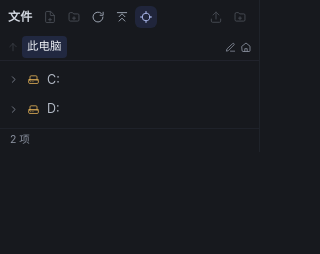
Test: FileTree Windows roots and navigation › expands drives independently and isolates a missing path to its own drive
Expected: the list item "D:" is shown, 6,101 -> 60,116
Click the list item "C:" at (33, 80), box 6,72 -> 60,87
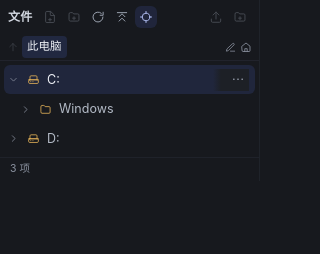
Result: the list item "Windows" is shown at 18,101 -> 114,116
Click the list item "D:" at (33, 138), box 6,131 -> 60,146
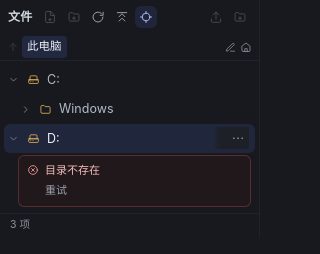
Result: the list item "Windows" is shown at 18,101 -> 114,116
Result: the text "目录不存在" is shown at 45,163 -> 100,177
Result: the button "重试" is shown
Click the button "重试" at (56, 191), box 45,182 -> 67,200
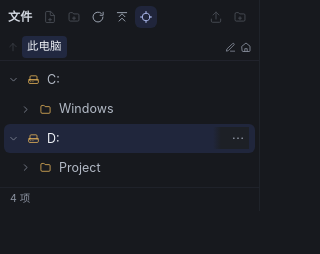
Result: the list item "Windows" is shown at 18,101 -> 114,116
Result: the list item "Project" is shown at 18,160 -> 100,175
